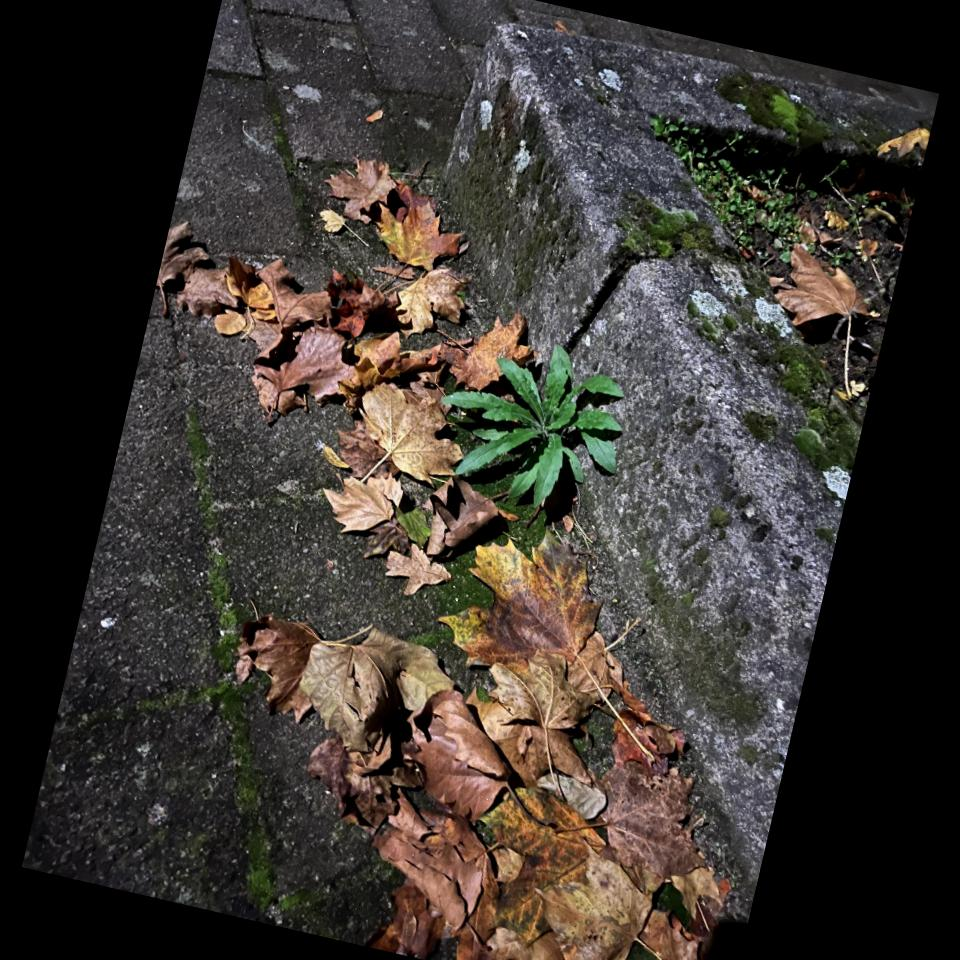weed: (182, 441, 285, 909), (442, 345, 622, 513)
